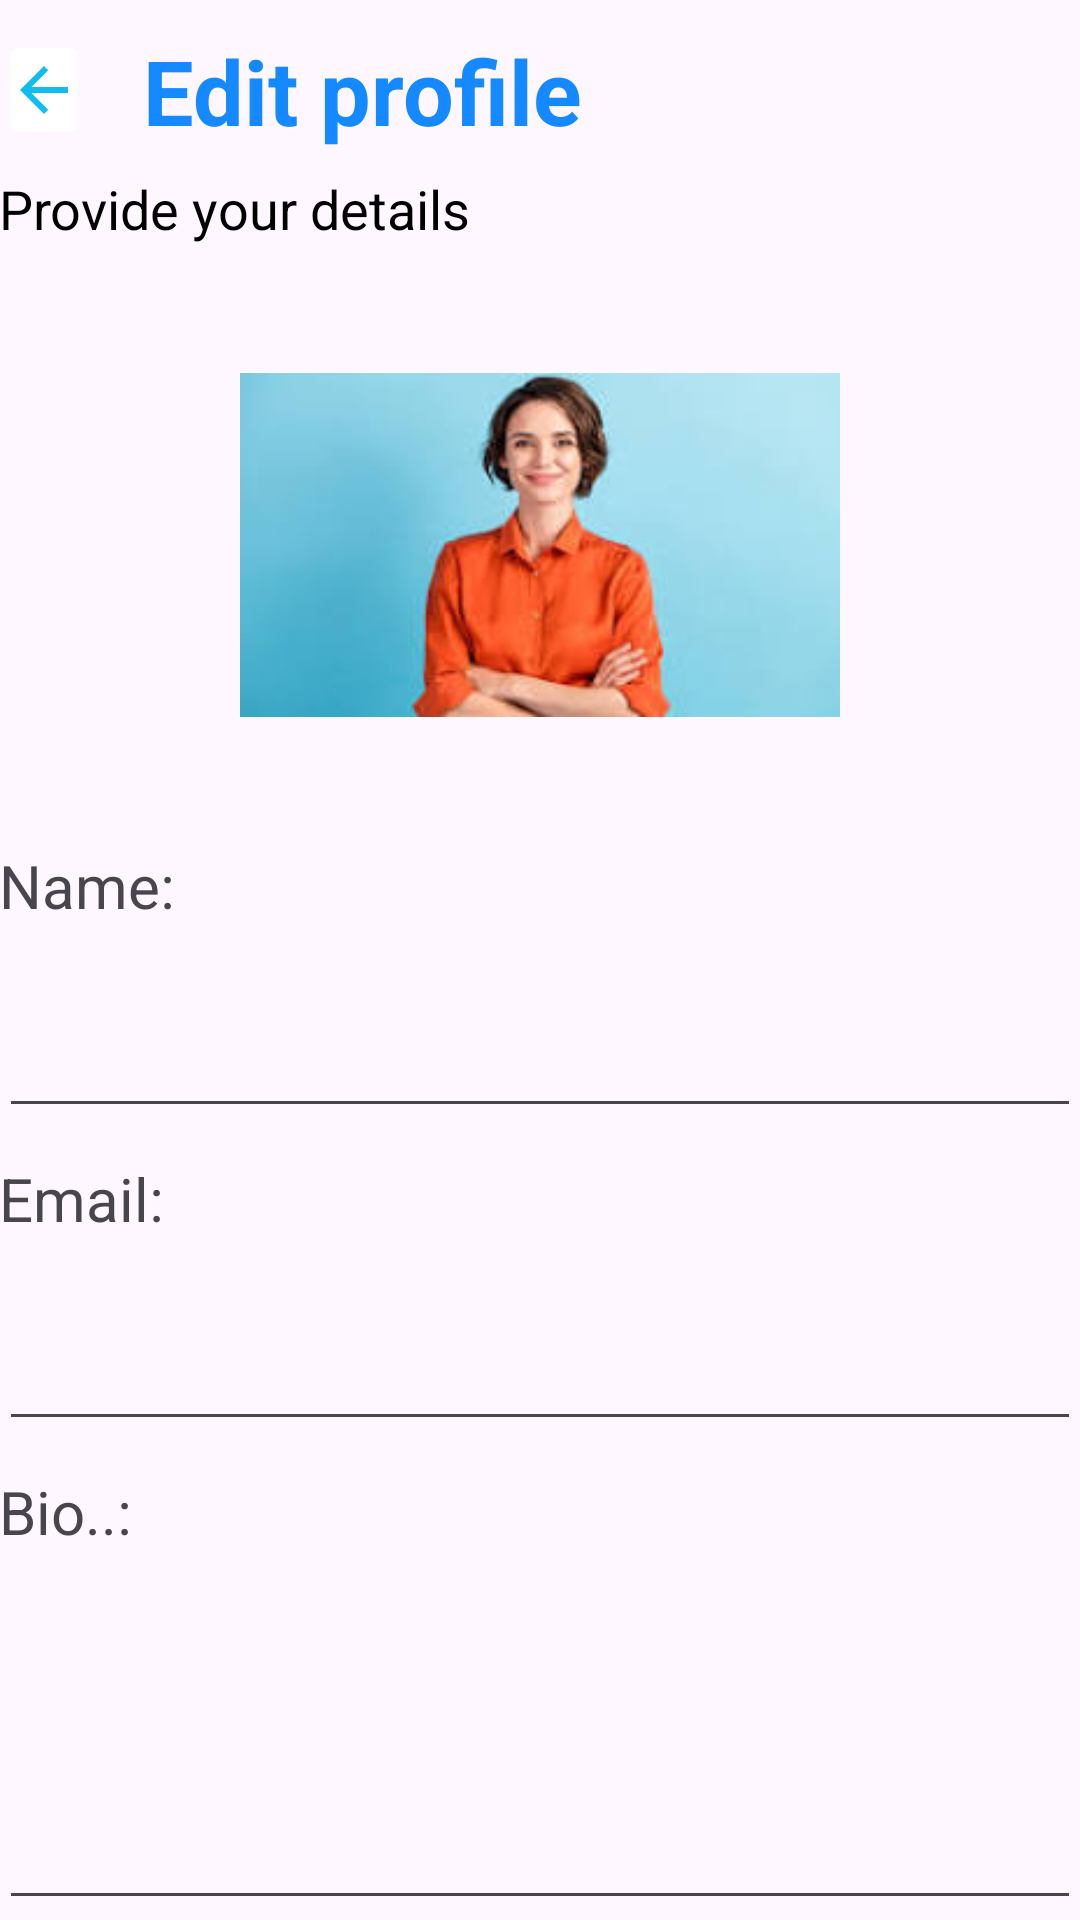

Icon click points for this 1080px x 1920px phone screenshot, format (x,y):
arrow back: (44,90)
